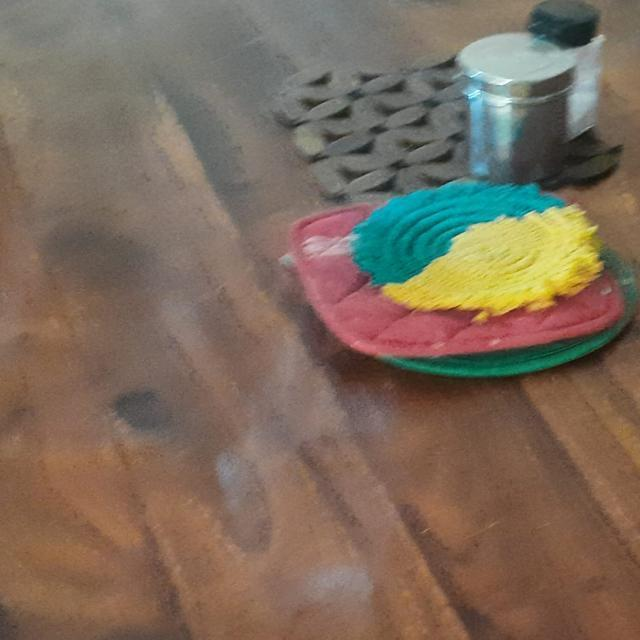fire: (95, 248, 421, 626)
